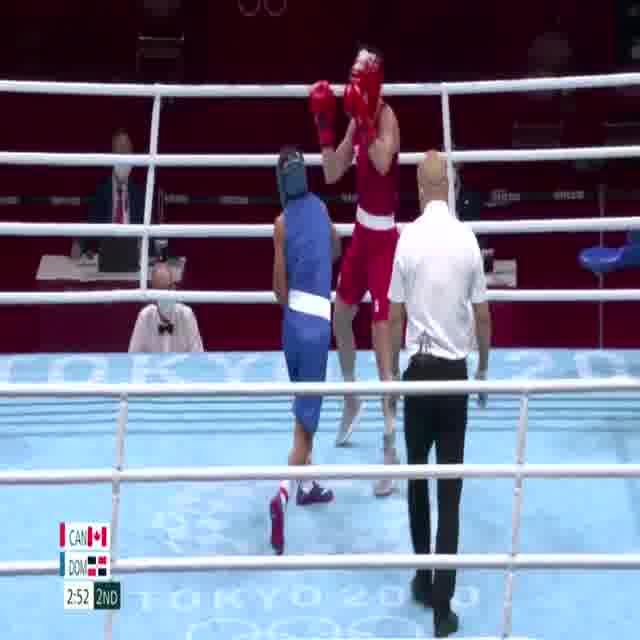blue-player: (265, 146, 344, 560)
red-player: (306, 40, 404, 503)
referee: (385, 148, 492, 640)
